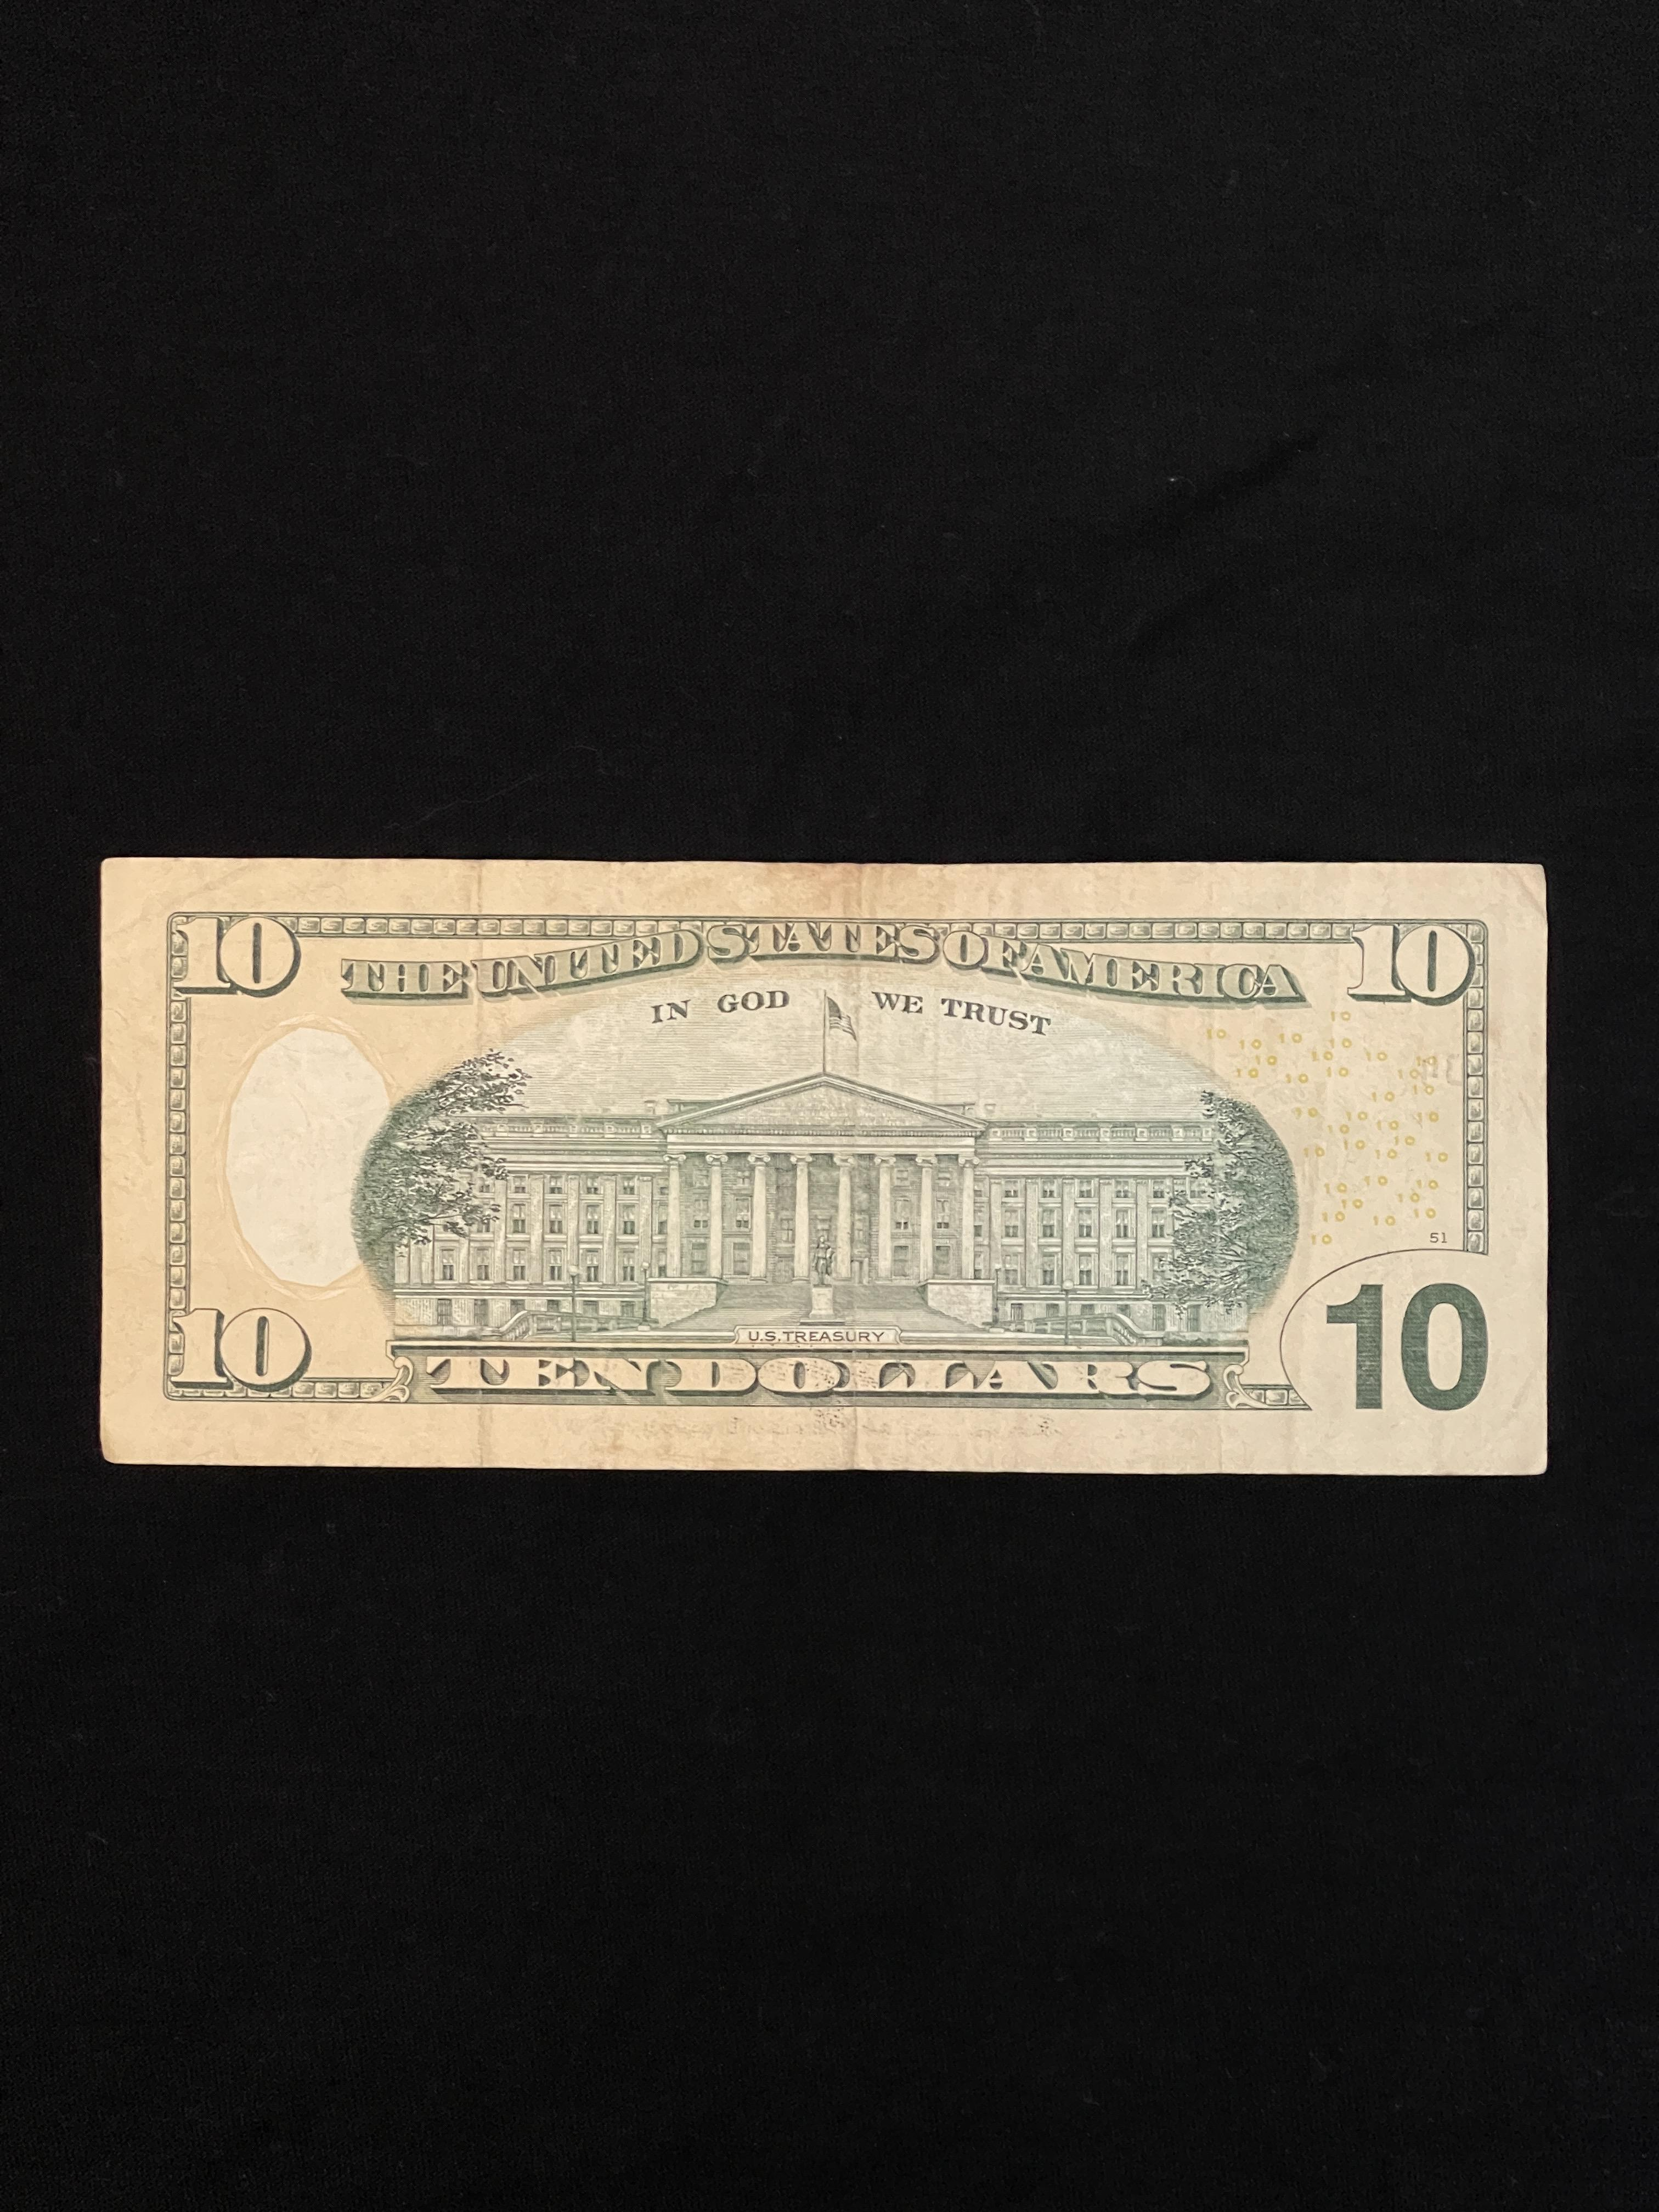TenBill: (94, 850, 1558, 1480)
